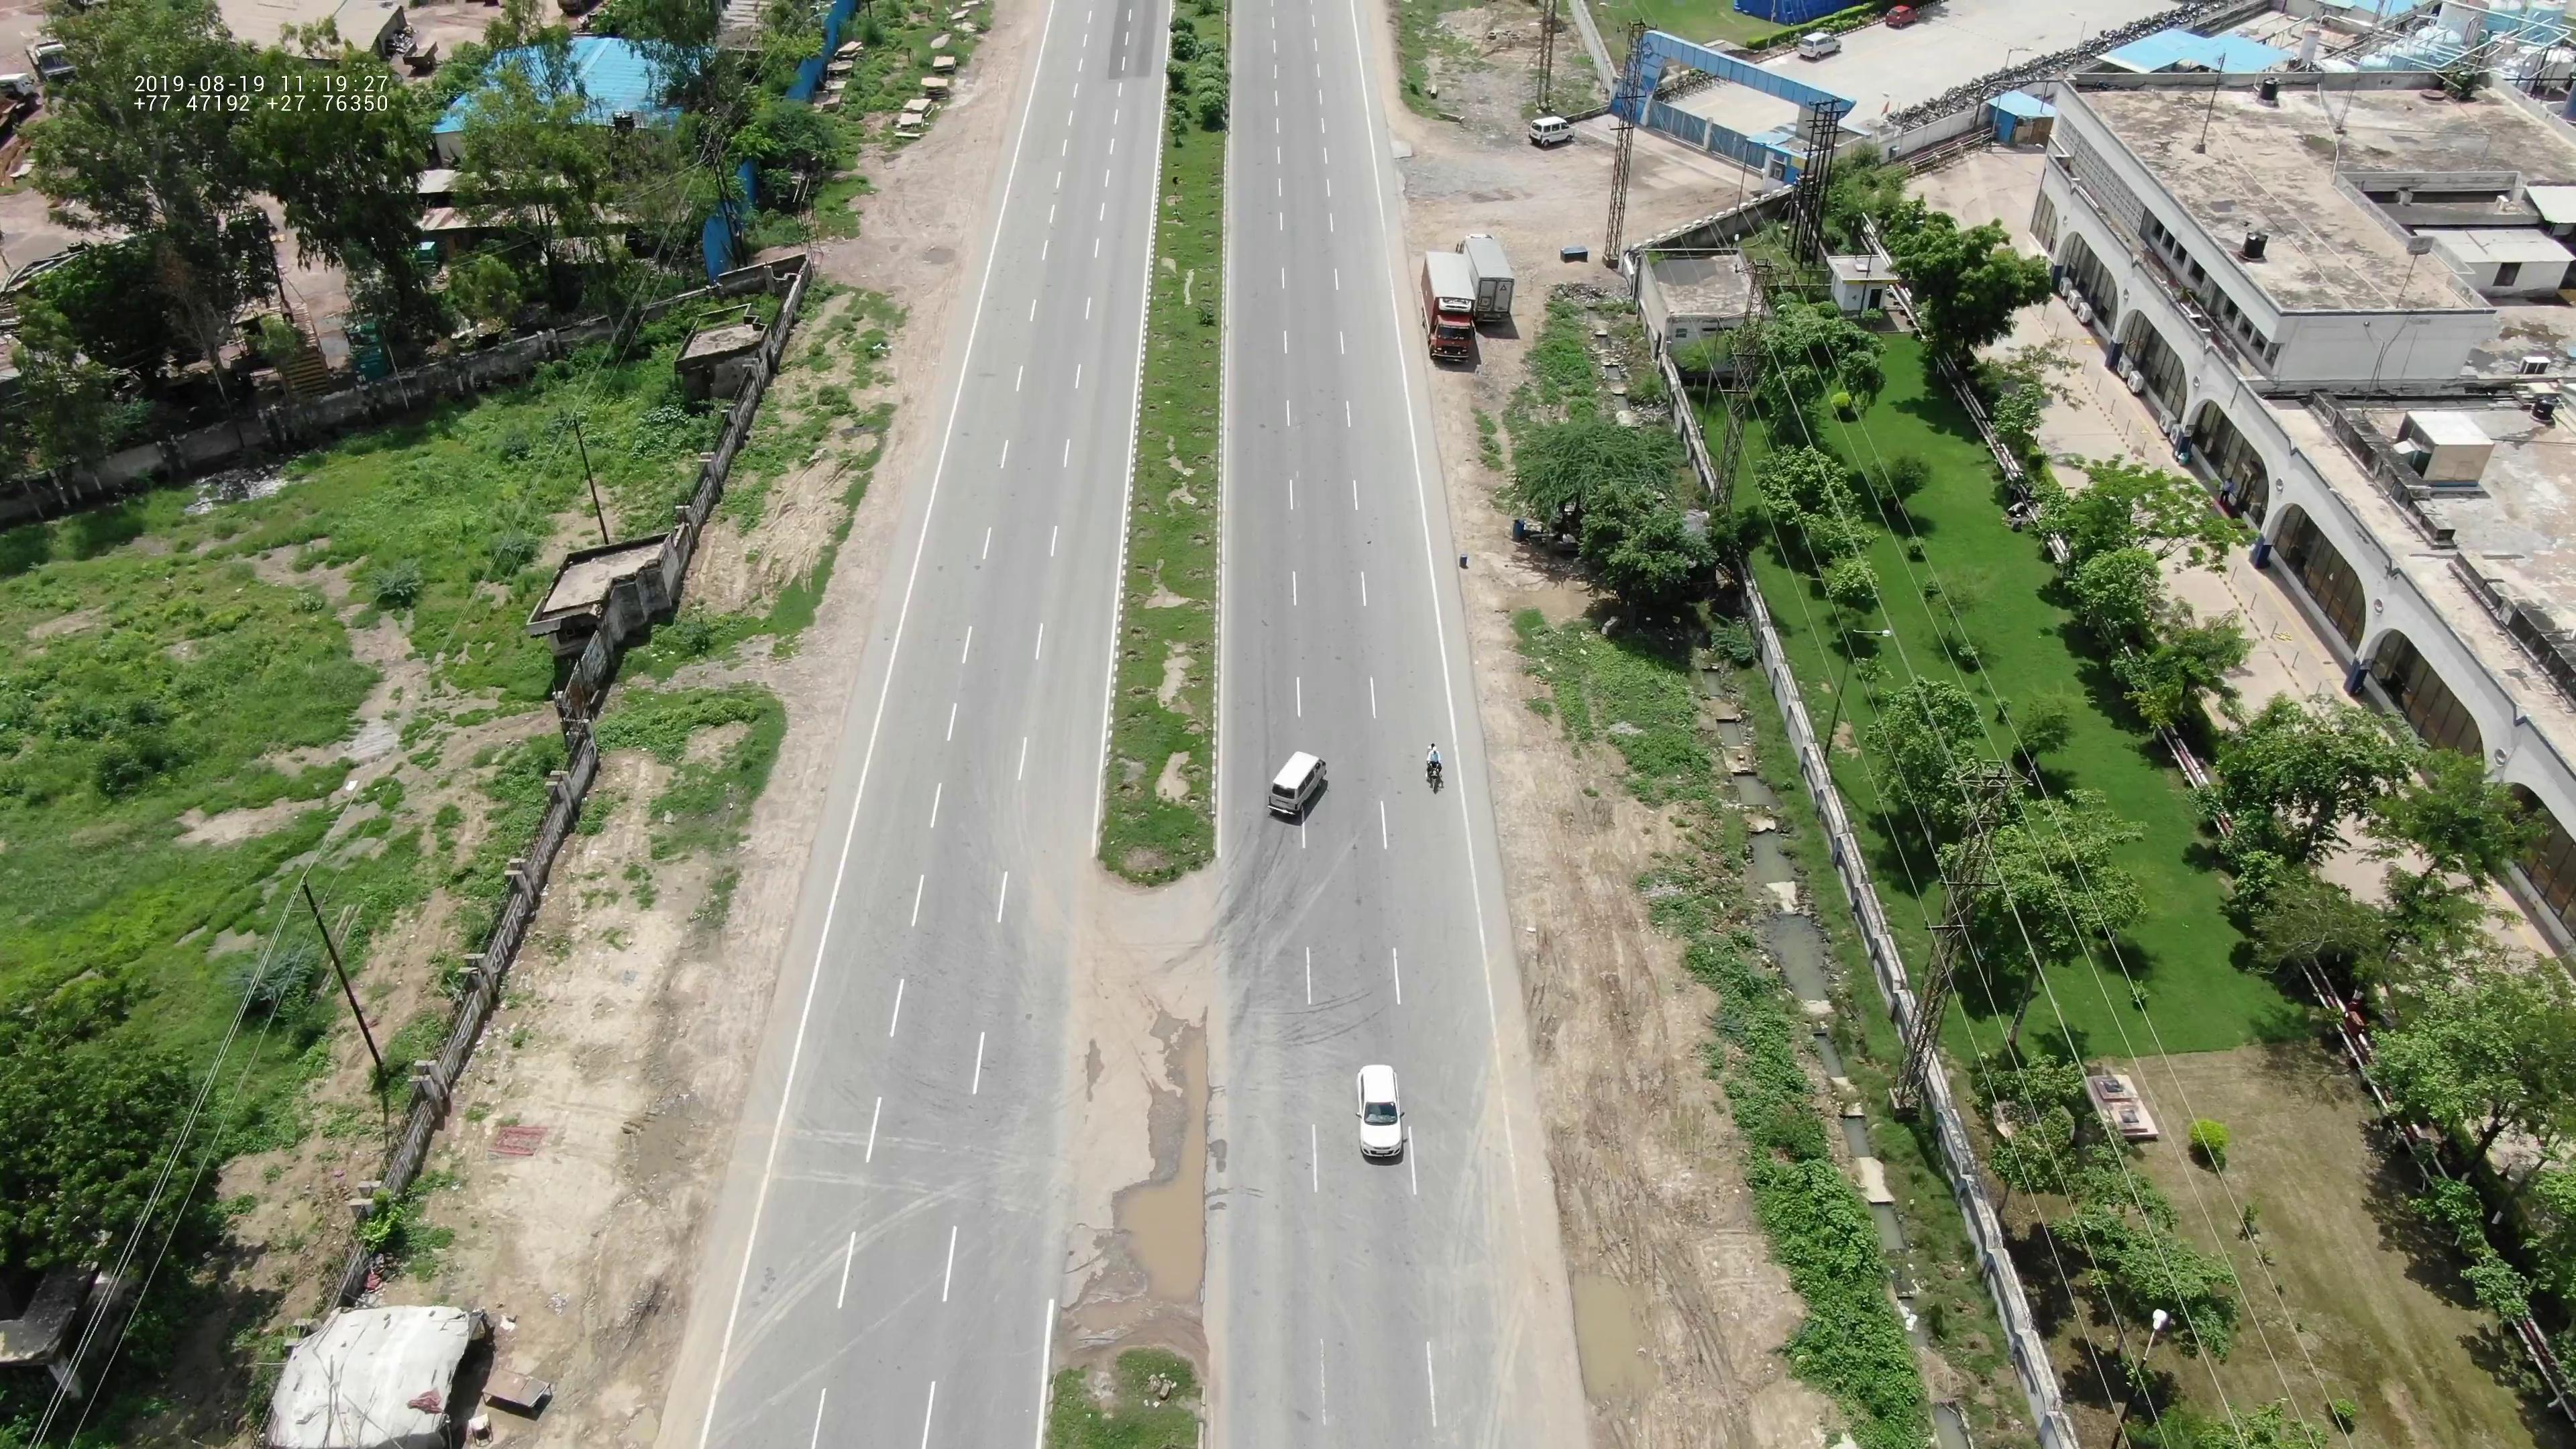Waterlogging: (1116, 998, 1272, 1274)
